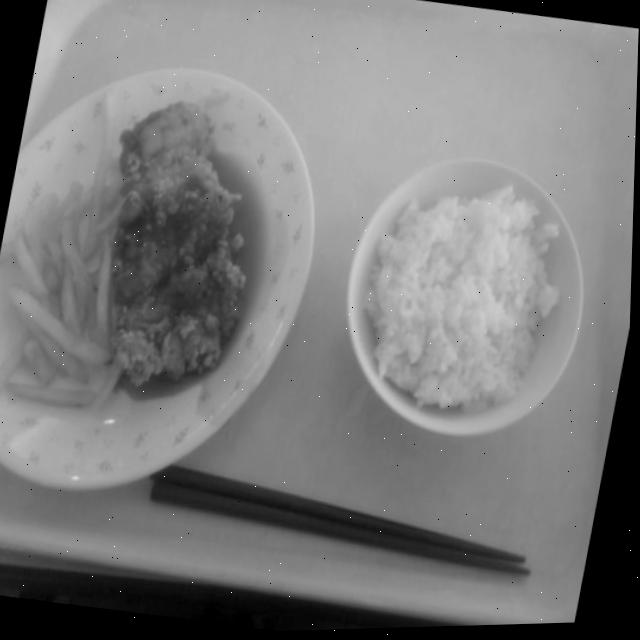炸货点心: (0, 68, 167, 493)
米饭主食: (317, 143, 621, 434)
